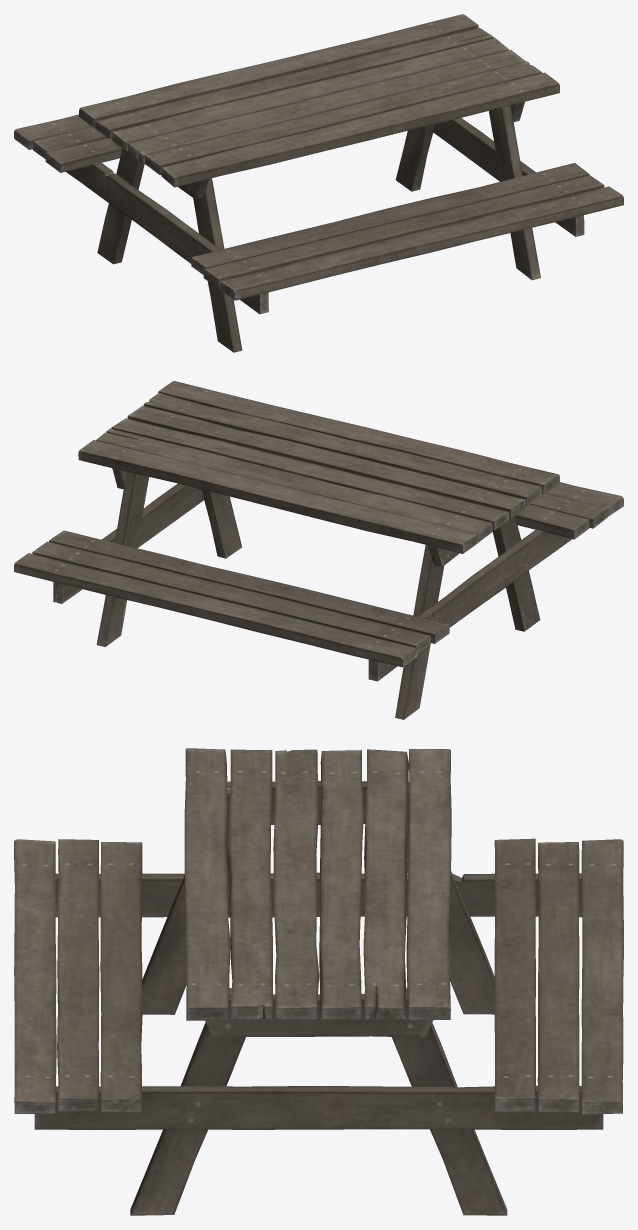
The model's file is prop_picnic_table.glb.
3 views of the same model, one above another, from view 1: azimuth 30°, elevation 25°; view 2: azimuth 150°, elevation 25°; view 3: azimuth 270°, elevation 25° (orthographic). The views are drawn at different scales.
Parts seen in each view (by area): view 1: PicnicTable_PicnicTable_MTL_0; view 2: PicnicTable_PicnicTable_MTL_0; view 3: PicnicTable_PicnicTable_MTL_0.
Part boxes in pixels (x1=…): PicnicTable_PicnicTable_MTL_0: x1=14, y1=14, x2=623, y2=352; PicnicTable_PicnicTable_MTL_0: x1=14, y1=381, x2=623, y2=719; PicnicTable_PicnicTable_MTL_0: x1=14, y1=748, x2=623, y2=1215.
Size of the model in its own units: 1.8 by 0.7513 by 1.77.
Materials: 1 (1 with a texture image).
